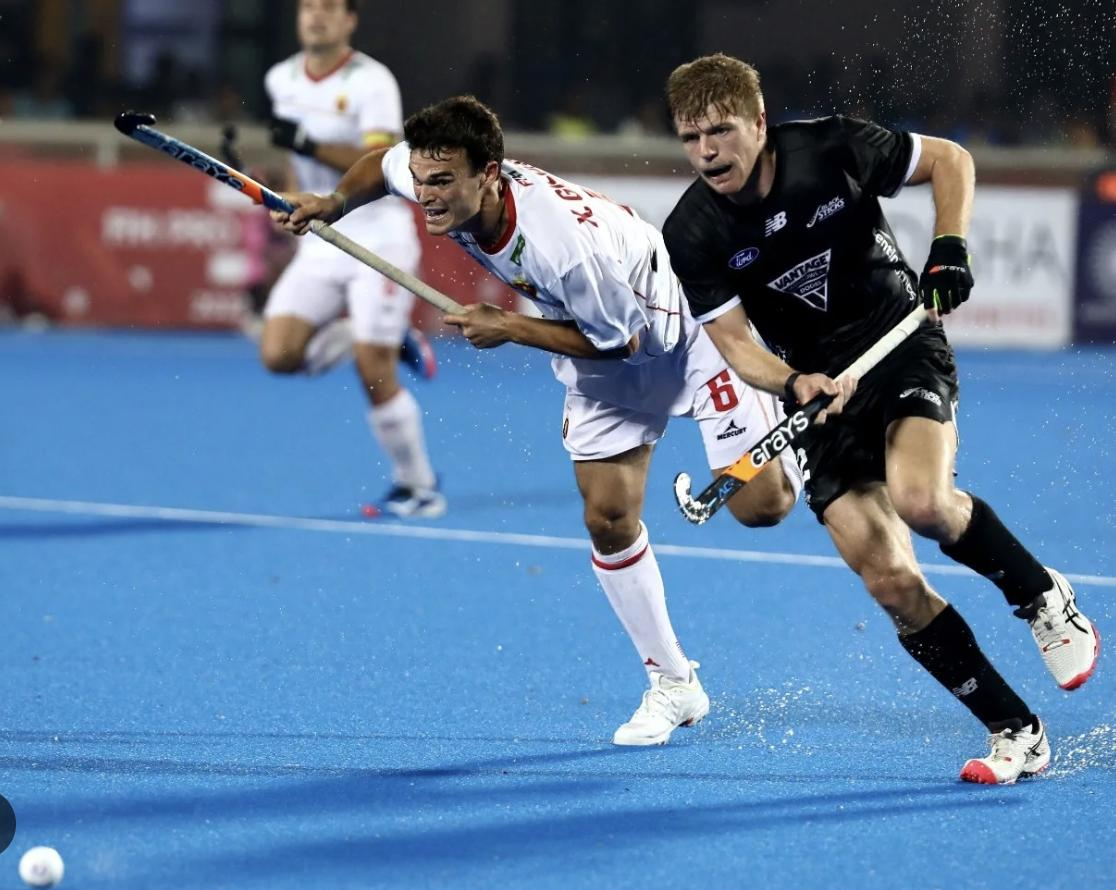ball: (16, 838, 78, 886)
